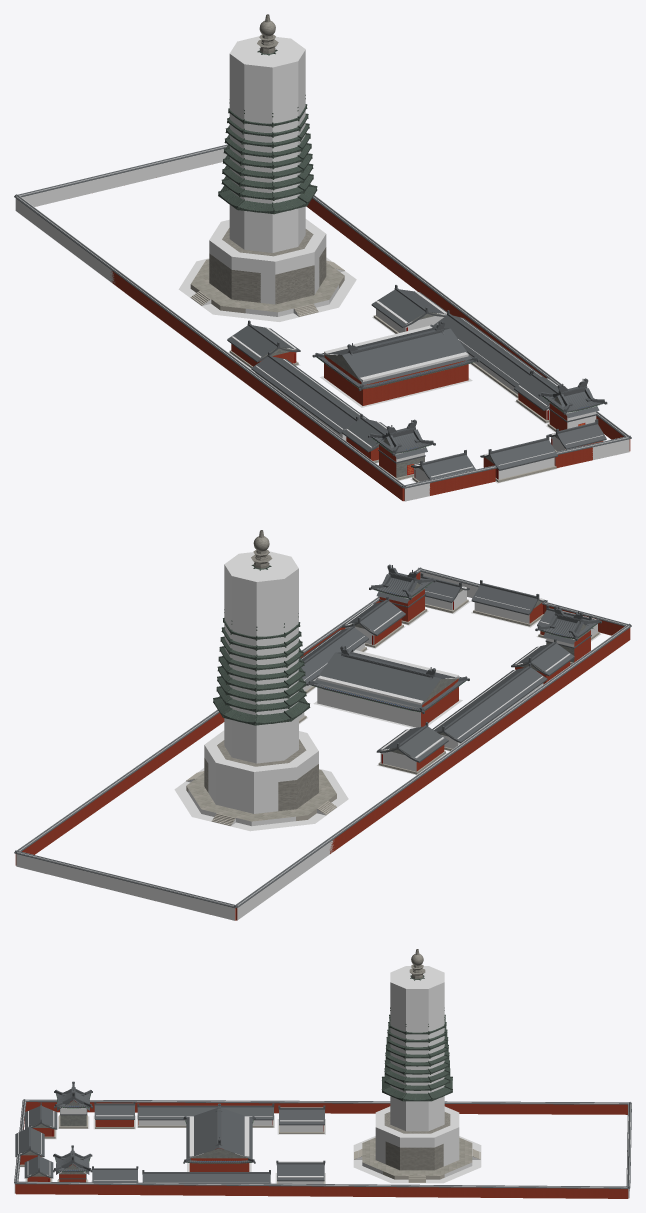
The model's file is tianningsi.glb.
3 renders of one model, top to bottom at view 1: azimuth 30°, elevation 25°; view 2: azimuth 150°, elevation 25°; view 3: azimuth 270°, elevation 25°, orthographic. The views are drawn at different scales.
Visible parts, largest first — view 1: Massing, Temple, COL_body, Pagoda, COL_sumeru, COL_wall, COL_wall.004, FOOTPRINT_pagoda, COL_hall_接引殿, COL_wall.001, COL_hall_药师殿; view 2: Massing, Temple, COL_body, Pagoda, COL_sumeru, COL_wall, COL_hall_接引殿, COL_wall.004, FOOTPRINT_pagoda, COL_wall.001, COL_hall_弥陀殿, COL_hall_僧舍 (+1 smaller); view 3: Temple, Massing, COL_body, Pagoda, COL_sumeru, FOOTPRINT_pagoda, COL_wall.001, COL_wall.004, COL_hall_僧舍, COL_hall_接引殿, COL_hall_弥陀殿.
Boxes of the visible parts, x1,y1,x2,y2 form: Massing: [190, 14, 606, 479]; Temple: [14, 144, 631, 501]; COL_body: [229, 36, 305, 252]; Pagoda: [190, 15, 344, 316]; COL_sumeru: [209, 219, 326, 304]; COL_wall: [19, 145, 226, 206]; COL_wall.004: [15, 196, 404, 485]; FOOTPRINT_pagoda: [178, 257, 356, 321]; COL_hall_接引殿: [324, 325, 468, 381]; COL_wall.001: [313, 195, 629, 436]; COL_hall_药师殿: [376, 291, 446, 332]; Massing: [186, 530, 594, 820]; Temple: [14, 564, 631, 920]; COL_body: [224, 551, 298, 763]; Pagoda: [186, 531, 336, 825]; COL_sumeru: [204, 730, 318, 813]; COL_wall: [16, 852, 235, 920]; COL_hall_接引殿: [317, 650, 458, 727]; COL_wall.004: [235, 625, 629, 920]; FOOTPRINT_pagoda: [174, 768, 348, 831]; COL_wall.001: [16, 569, 420, 851]; COL_hall_弥陀殿: [380, 729, 444, 771]; COL_hall_僧舍: [433, 669, 543, 748]; Temple: [14, 1081, 631, 1198]; Massing: [15, 949, 452, 1183]; COL_body: [390, 966, 444, 1131]; Pagoda: [354, 949, 480, 1182]; COL_sumeru: [375, 1106, 459, 1166]; FOOTPRINT_pagoda: [353, 1136, 481, 1183]; COL_wall.001: [17, 1182, 627, 1187]; COL_wall.004: [25, 1100, 628, 1103]; COL_hall_僧舍: [139, 1116, 272, 1125]; COL_hall_接引殿: [189, 1116, 249, 1157]; COL_hall_弥陀殿: [280, 1107, 323, 1131].
Bounding box in the file's own units: 53.08 × 57.8 × 157.
12 materials, 8 textured.
